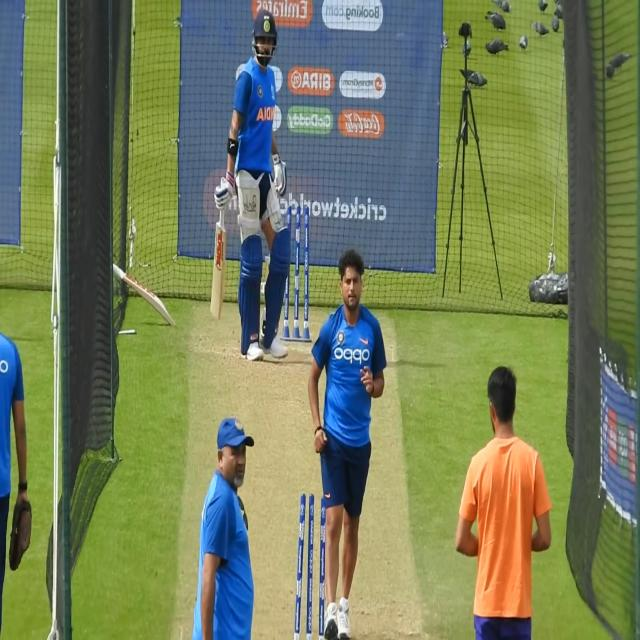stump: (293, 490, 329, 640), (285, 201, 310, 343)
